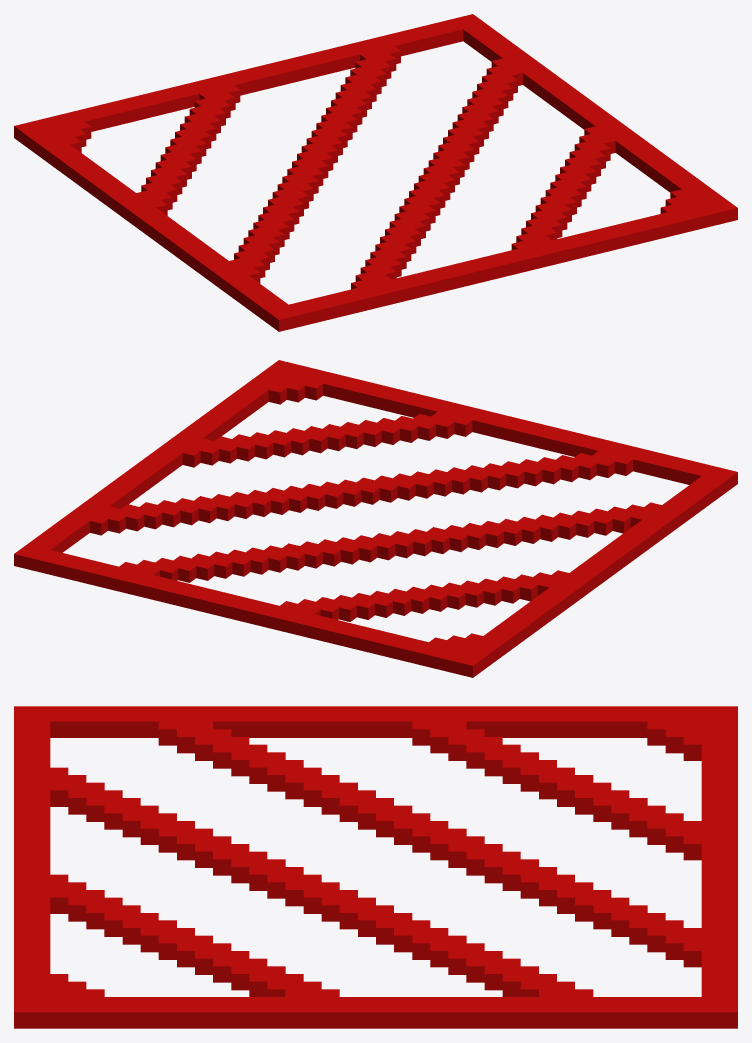
The model's file is Threat_Indicator.vox.obj.
3 renders of one model, top to bottom at view 1: azimuth 30°, elevation 25°; view 2: azimuth 150°, elevation 25°; view 3: azimuth 270°, elevation 25°, orthographic. The views are drawn at different scales.
Bounding box in the file's own units: 4 × 0.1 × 4.
Materials: 1 (1 with a texture image).
